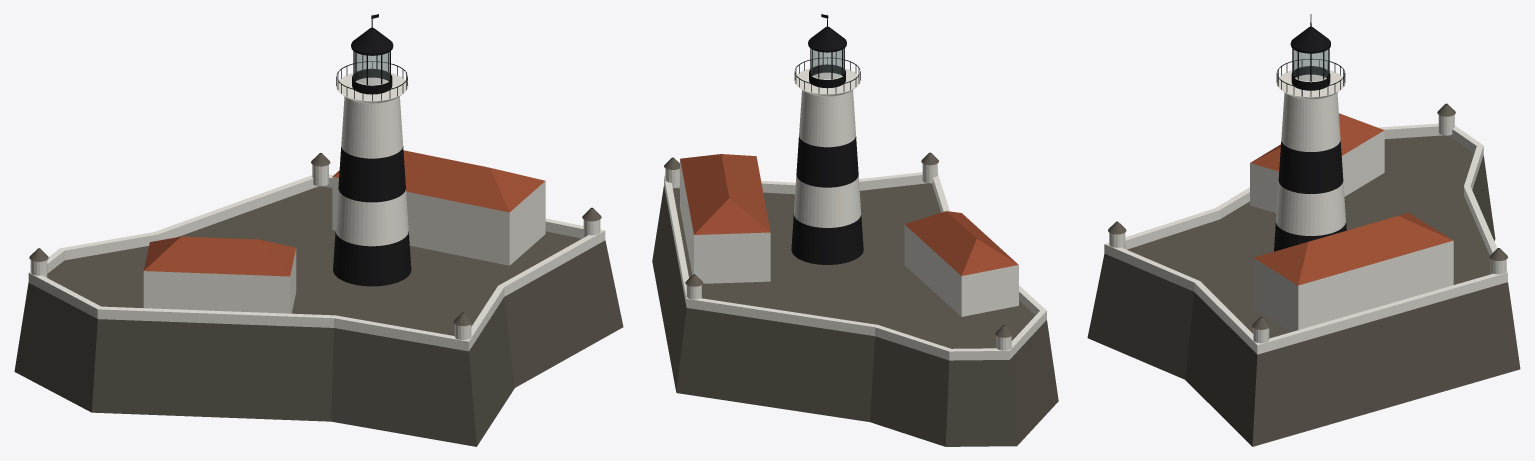
The model's file is farol-da-barra.glb.
3 views of the same model, side by side, from view 1: azimuth 30°, elevation 25°; view 2: azimuth 150°, elevation 25°; view 3: azimuth 270°, elevation 25° (orthographic). The views are drawn at different scales.
Parts seen in each view (by area): view 1: farol_da_barra; view 2: farol_da_barra; view 3: farol_da_barra.
Boxes of the visible parts, x1=… form: farol_da_barra: x1=14, y1=14, x2=623, y2=446; farol_da_barra: x1=652, y1=14, x2=1058, y2=446; farol_da_barra: x1=1087, y1=14, x2=1520, y2=446.
Size of the model in its own units: 59.23 by 38.75 by 46.13.
